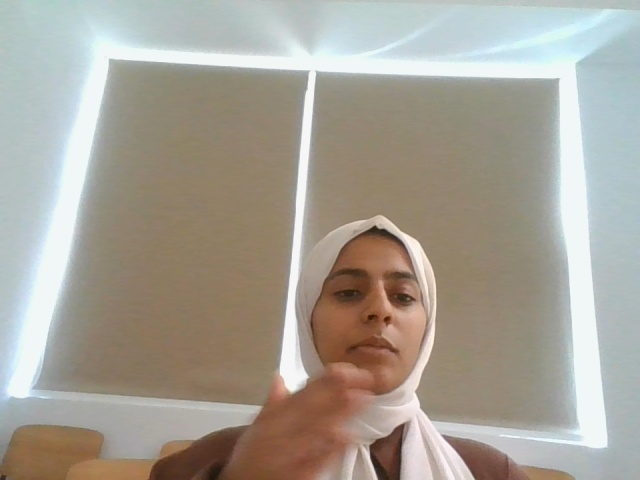stop: (241, 337, 384, 480)
